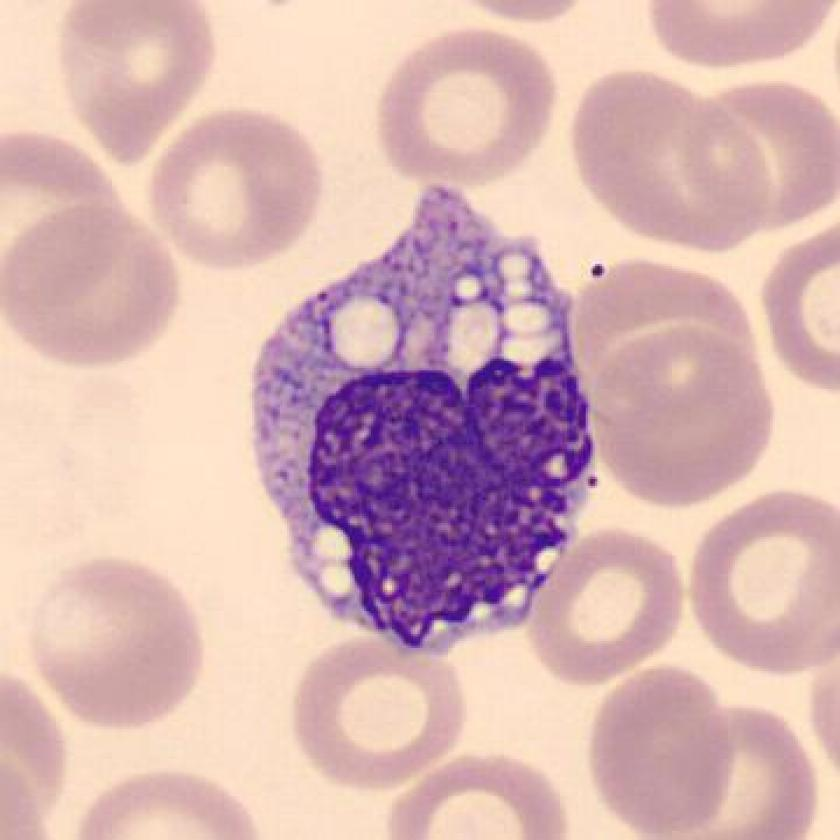monocyte: (225, 172, 622, 672)
